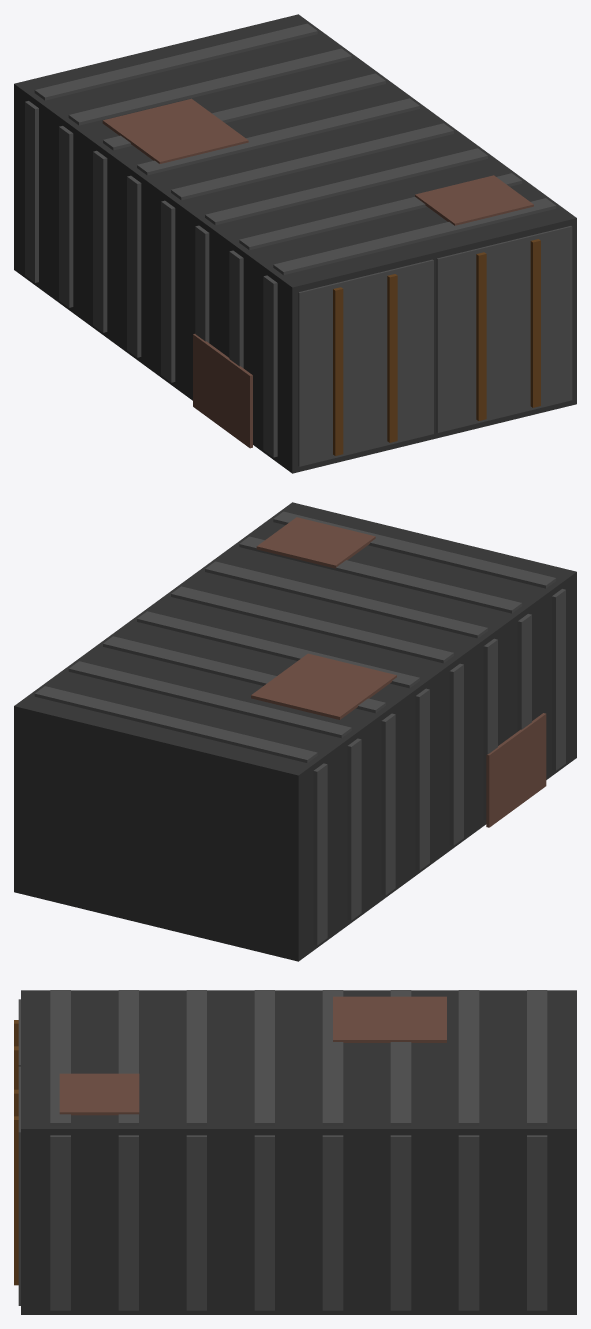
Rendered from junk_large_container.obj.
3 views of the same model, one above another, from view 1: azimuth 30°, elevation 25°; view 2: azimuth 150°, elevation 25°; view 3: azimuth 270°, elevation 25° (orthographic).
Parts seen in each view (by area): view 1: junk_large_container_0, junk_large_container_26, junk_large_container_25, junk_large_container_31, junk_large_container_33, junk_large_container_12, junk_large_container_21, junk_large_container_24, junk_large_container_9, junk_large_container_32, junk_large_container_15, junk_large_container_3 (+14 smaller); view 2: junk_large_container_0, junk_large_container_31, junk_large_container_33, junk_large_container_12, junk_large_container_21, junk_large_container_9, junk_large_container_24, junk_large_container_32, junk_large_container_3, junk_large_container_6, junk_large_container_15, junk_large_container_10 (+8 smaller); view 3: junk_large_container_0, junk_large_container_31, junk_large_container_14, junk_large_container_17, junk_large_container_20, junk_large_container_2, junk_large_container_5, junk_large_container_8, junk_large_container_11, junk_large_container_23, junk_large_container_32, junk_large_container_21 (+9 smaller).
Boxes of the visible parts, x1,y1,x2,y2 form: junk_large_container_0: (14, 14, 576, 473); junk_large_container_26: (436, 226, 572, 432); junk_large_container_25: (298, 259, 433, 466); junk_large_container_31: (102, 98, 248, 163); junk_large_container_33: (193, 334, 252, 448); junk_large_container_12: (171, 123, 453, 200); junk_large_container_21: (68, 48, 351, 125); junk_large_container_24: (34, 23, 317, 100); junk_large_container_9: (205, 148, 487, 225); junk_large_container_32: (415, 175, 533, 225); junk_large_container_15: (137, 98, 419, 175); junk_large_container_3: (273, 198, 556, 274); junk_large_container_0: (14, 502, 576, 961); junk_large_container_31: (251, 653, 396, 719); junk_large_container_33: (486, 713, 546, 827); junk_large_container_12: (171, 586, 453, 663); junk_large_container_21: (68, 661, 351, 738); junk_large_container_9: (205, 561, 487, 638); junk_large_container_24: (34, 686, 317, 762); junk_large_container_32: (256, 517, 375, 568); junk_large_container_3: (273, 511, 556, 588); junk_large_container_6: (239, 536, 522, 613); junk_large_container_15: (137, 611, 419, 688); junk_large_container_10: (449, 663, 463, 845); junk_large_container_0: (21, 990, 576, 1314); junk_large_container_31: (333, 996, 446, 1042); junk_large_container_14: (322, 1135, 343, 1310); junk_large_container_17: (390, 1135, 411, 1310); junk_large_container_20: (458, 1135, 479, 1310); junk_large_container_2: (50, 1135, 70, 1310); junk_large_container_5: (118, 1135, 138, 1310); junk_large_container_8: (186, 1135, 206, 1310); junk_large_container_11: (254, 1135, 274, 1310); junk_large_container_23: (527, 1135, 547, 1310); junk_large_container_32: (59, 1073, 139, 1115); junk_large_container_21: (458, 990, 479, 1125).
Bounding box in the file's own units: 2.98 × 1.85 × 4.94.
